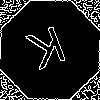K: (25, 25, 72, 80)
